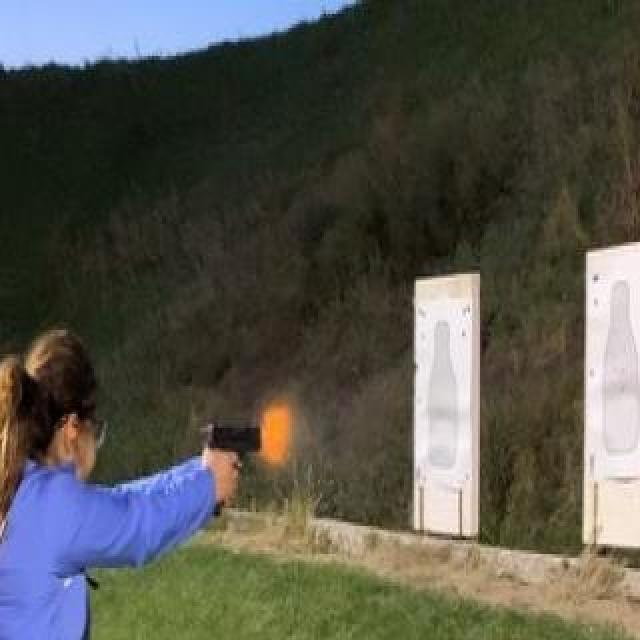Guns: (194, 402, 273, 530)
